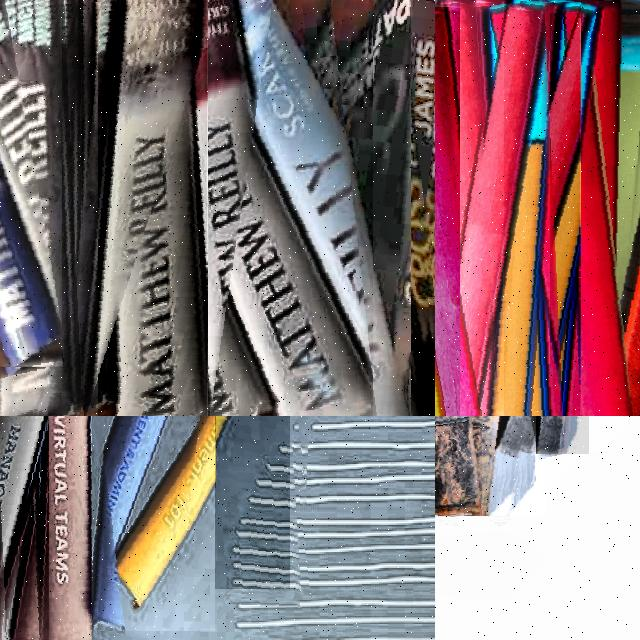Books: (102, 0, 372, 416), (237, 0, 406, 416), (319, 0, 435, 416), (435, 2, 549, 416), (100, 0, 207, 416), (527, 0, 630, 416), (505, 13, 580, 416), (48, 416, 166, 630), (119, 416, 232, 588), (28, 416, 91, 640), (435, 149, 482, 416), (0, 168, 61, 366), (438, 416, 518, 516), (435, 416, 482, 515)
